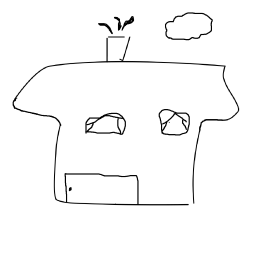clouds: (158, 6, 218, 54)
door: (61, 165, 147, 212)
open_window: (74, 104, 129, 145), (152, 104, 193, 145)
single_line_roof: (7, 53, 245, 121)
smoking_chimney: (92, 6, 141, 69)
wall: (43, 106, 204, 210)
